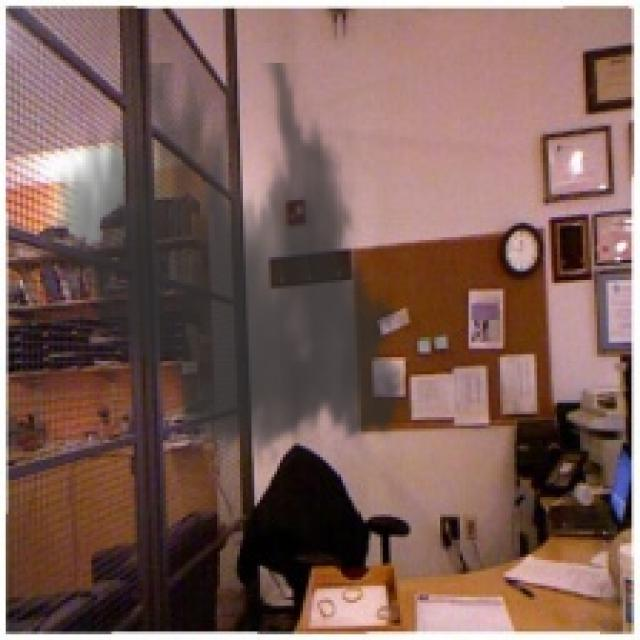smoke: (37, 63, 423, 474)
